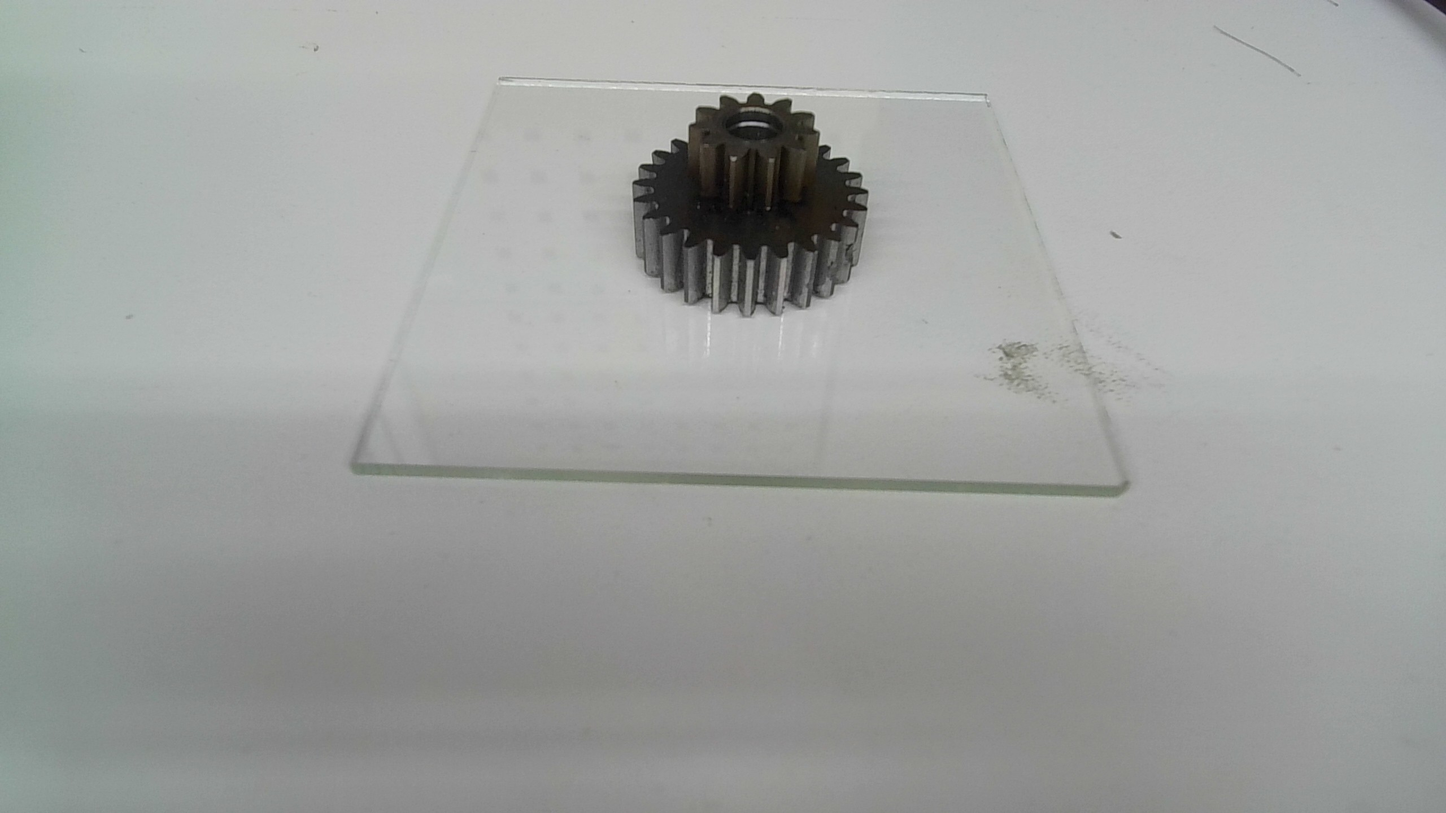gear: (628, 90, 879, 325)
